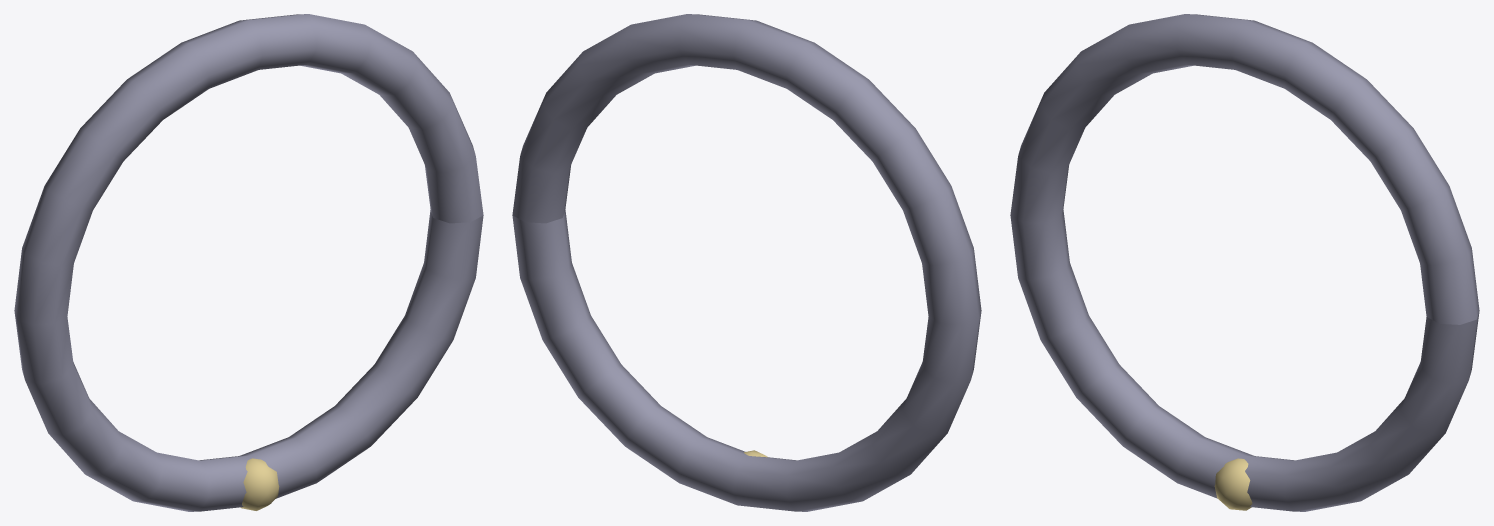
The model's file is band.glb.
The picture shows the model from 3 angles, left to right: view 1: azimuth 30°, elevation 25°; view 2: azimuth 150°, elevation 25°; view 3: azimuth 330°, elevation 25°; orthographic projection.
Parts seen in each view (by area): view 1: band; view 2: band; view 3: band.
Boxes of the visible parts, x1,y1,x2,y2 form: band: (14,14,483,511); band: (512,14,981,511); band: (1010,14,1479,511).
Size of the model in its own units: 0.234 by 0.234 by 0.028.
